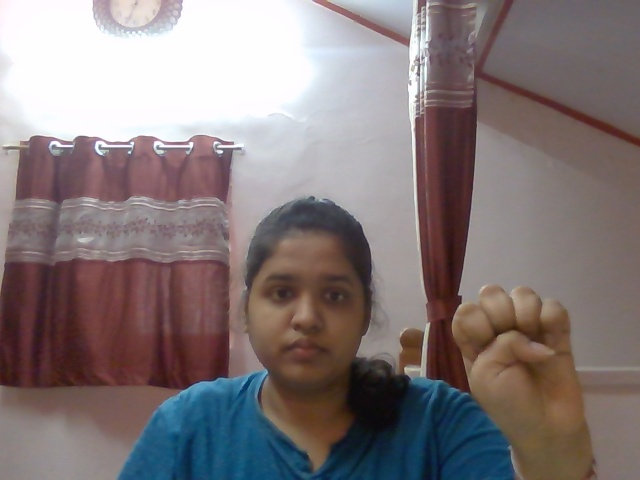e: (429, 269, 601, 448)
